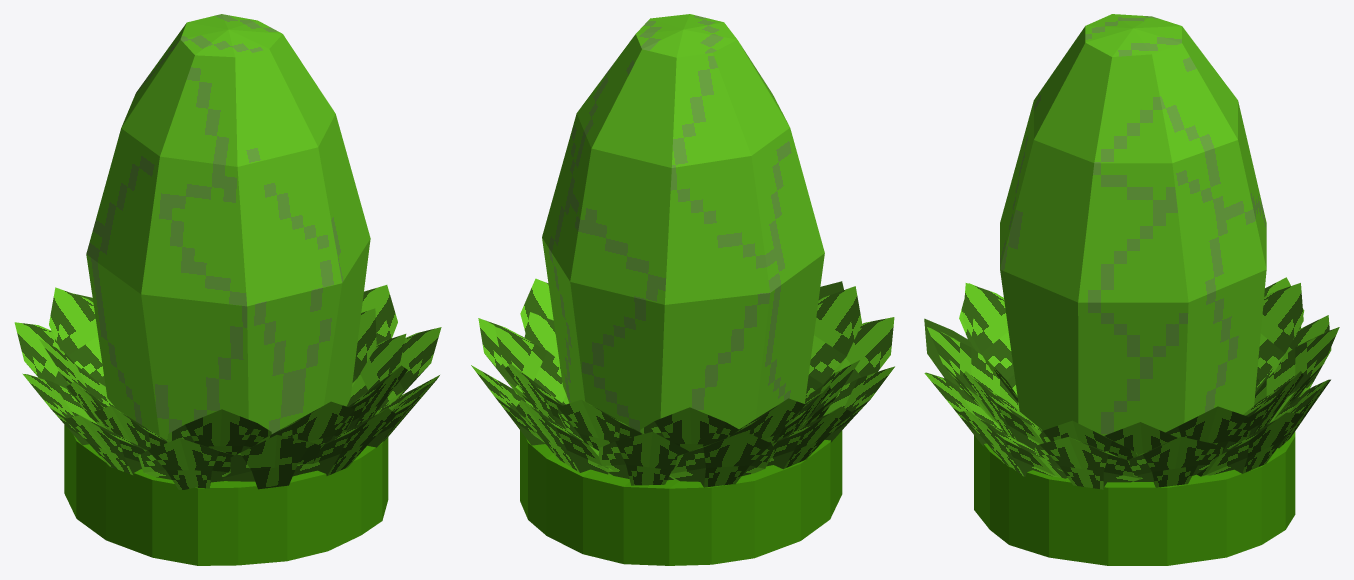
The model's file is nest.gltf.
3 renders of one model, left to right at view 1: azimuth 30°, elevation 25°; view 2: azimuth 150°, elevation 25°; view 3: azimuth 270°, elevation 25°, orthographic.
Visible parts, largest first — view 1: egg, leaves, base; view 2: egg, leaves, base; view 3: egg, leaves, base.
Part boxes in pixels (box(x1,y1,x2,y2)): egg: box(86, 14, 370, 440); leaves: box(14, 285, 441, 489); base: box(64, 424, 388, 565); egg: box(542, 14, 824, 431); leaves: box(471, 278, 894, 487); base: box(520, 430, 842, 565); egg: box(1000, 14, 1266, 435); leaves: box(924, 277, 1339, 489); base: box(974, 431, 1295, 565).
Bounding box in the file's own units: 0.2534 × 0.3141 × 0.2485.
3 materials, 3 textured.
